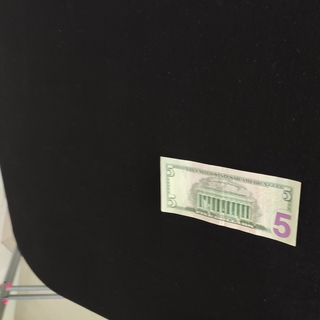5USDBack: (159, 155, 301, 247)
